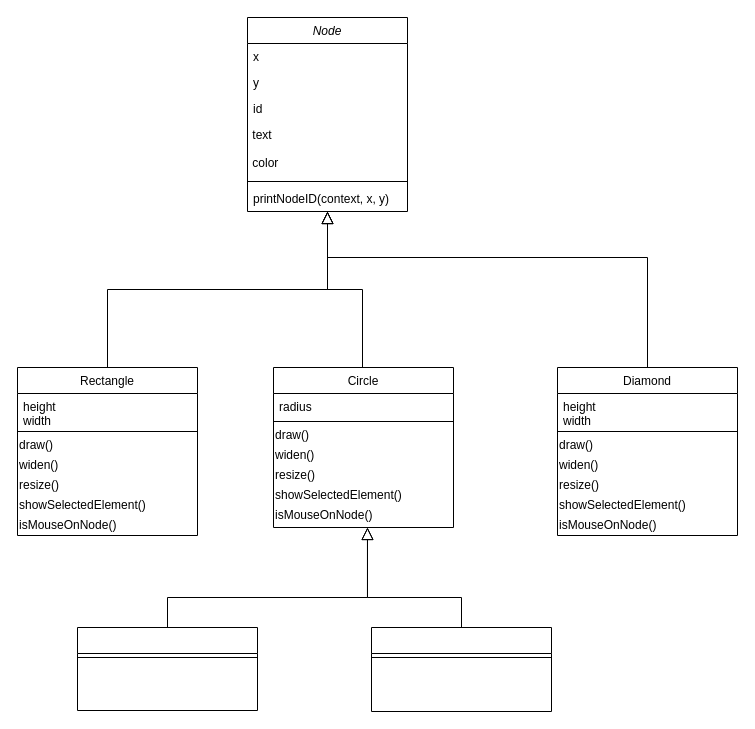
Image size: 755x729. Some labels were removed from this diagram. Here are the shapes that lost their labels. From the top down, the centre of each, then its label:
At (x=167, y=668): "Start".
At (x=461, y=669): "End".
